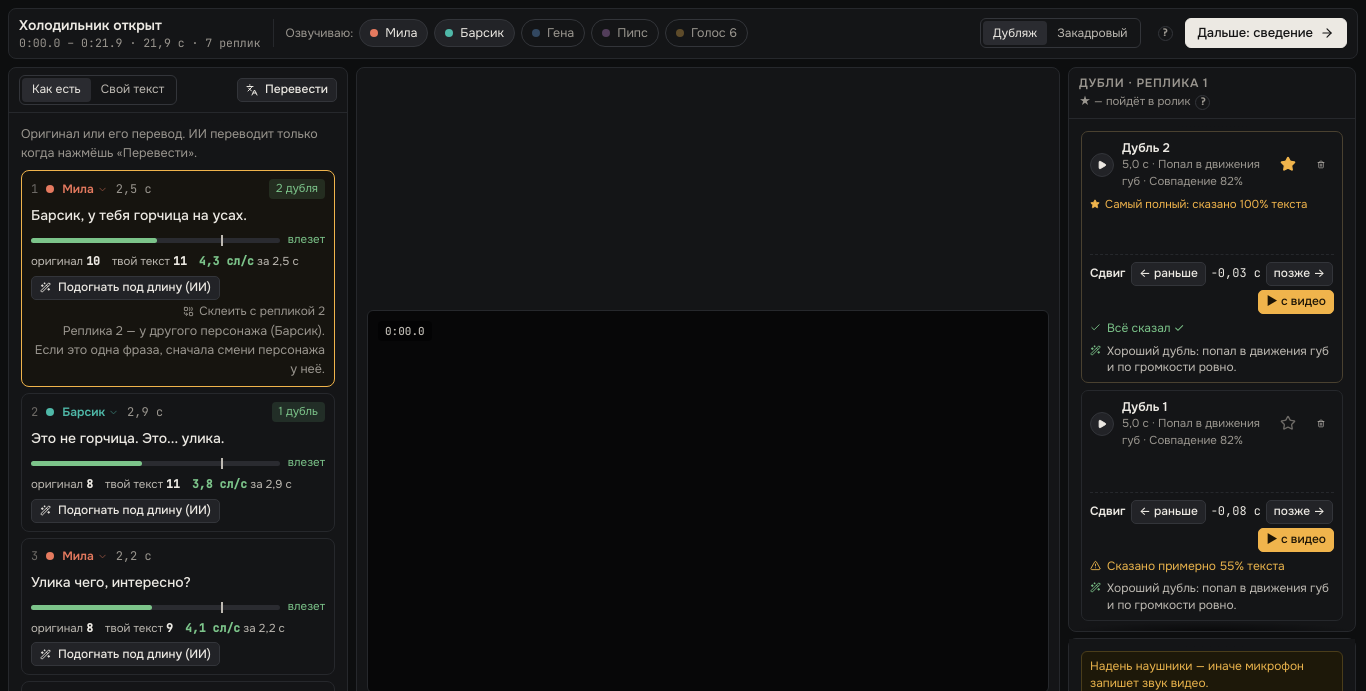
меню «Кто это говорит?» › клавиатура: фокус на текущем, ↓/↑ по пунктам, Enter выбирает; ↑↓ не листают реплики
The width and height of the screenshot is (1366, 691).
Click the button with aria-label "Персонаж реплики 1" at (85, 190), box [58, 180, 112, 199]
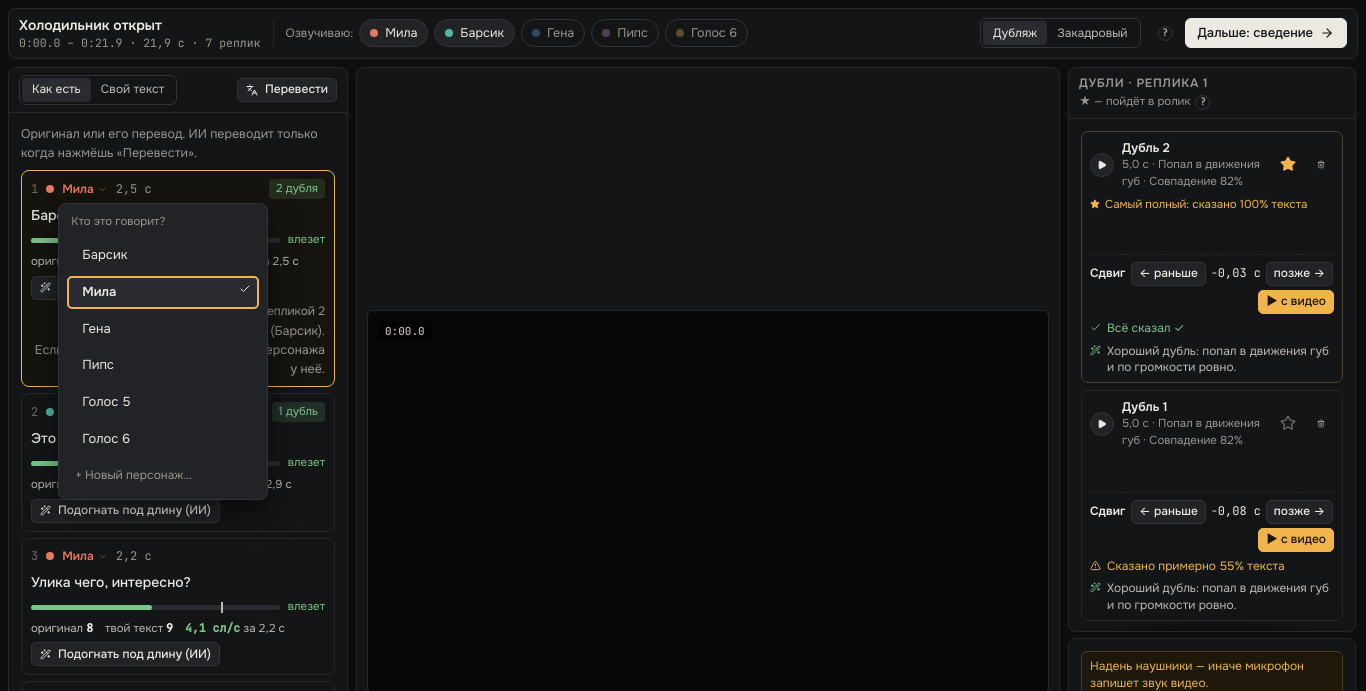
Press Arrowdown
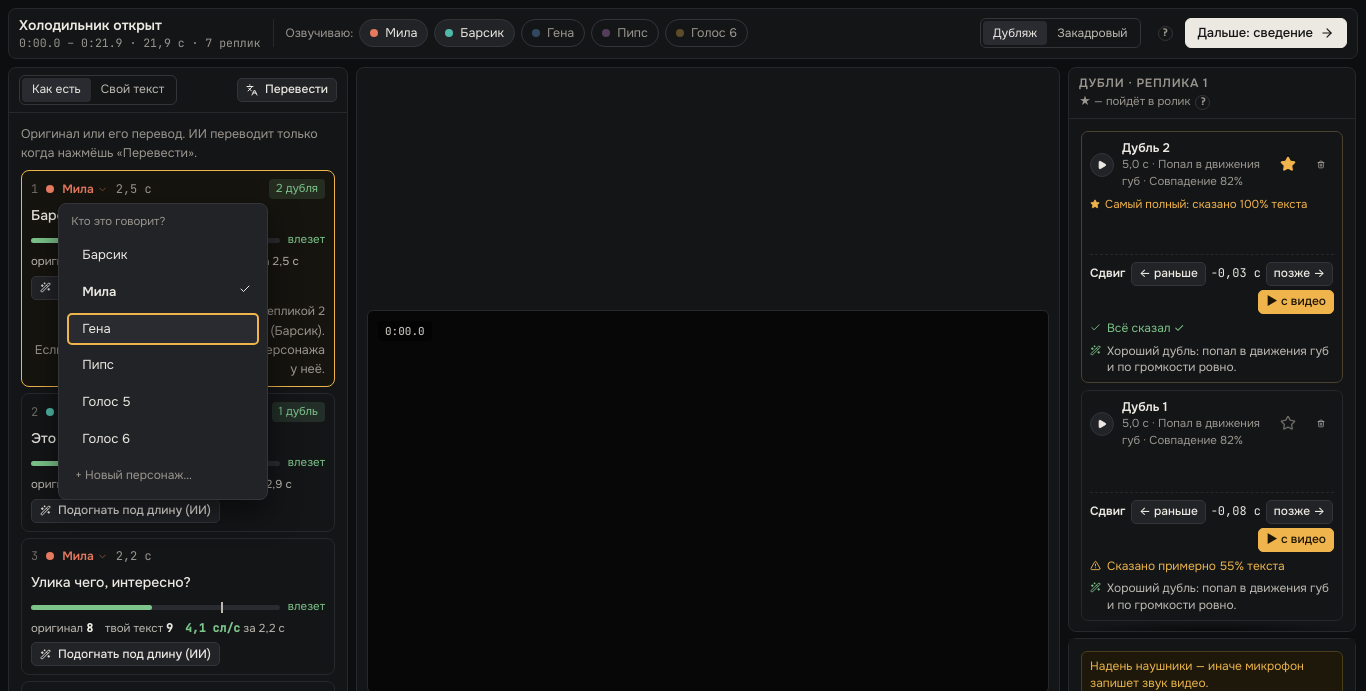
Press Arrowup
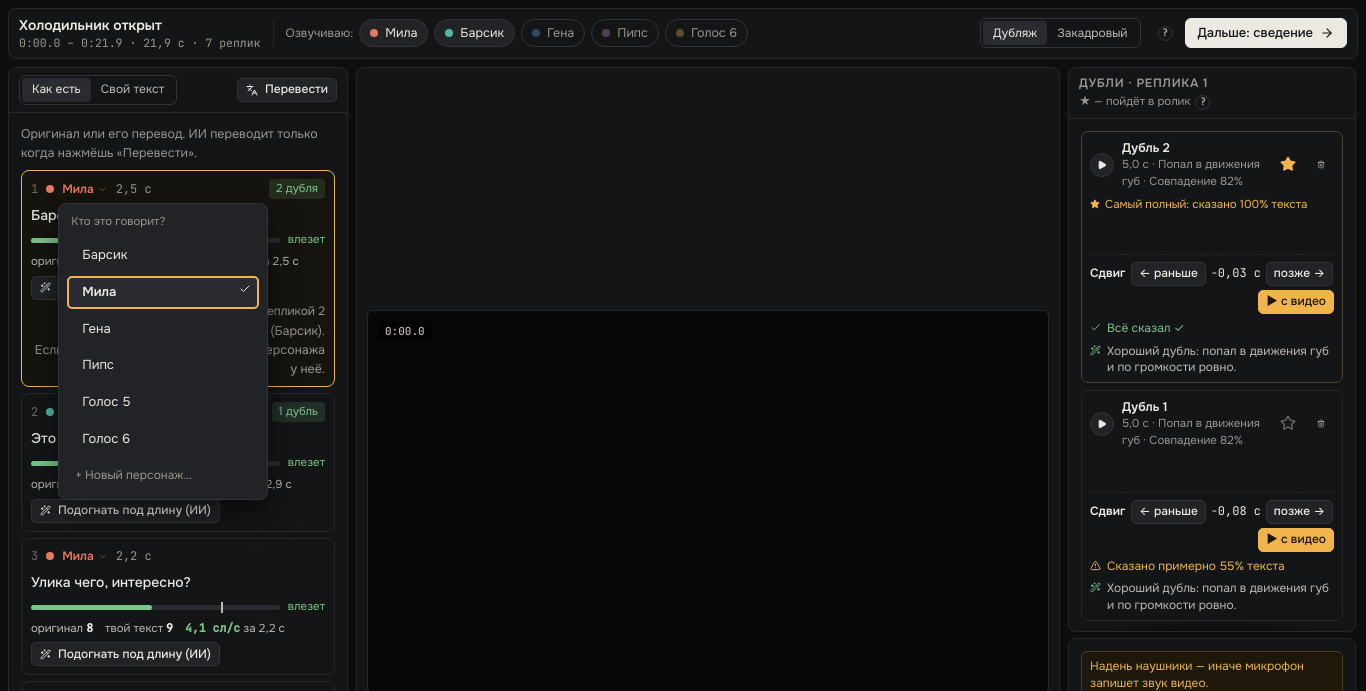
Note: к соседнему персонажу (не текущему) и Enter
Press Arrowdown
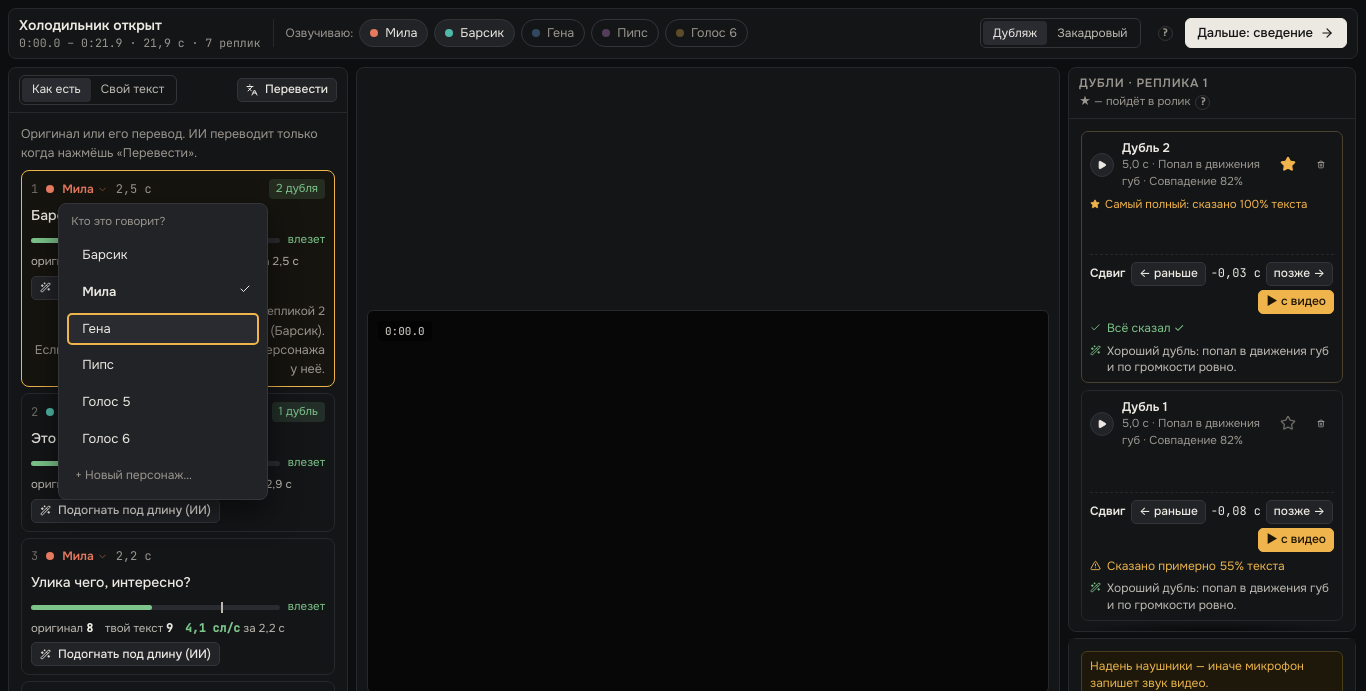
Press Enter
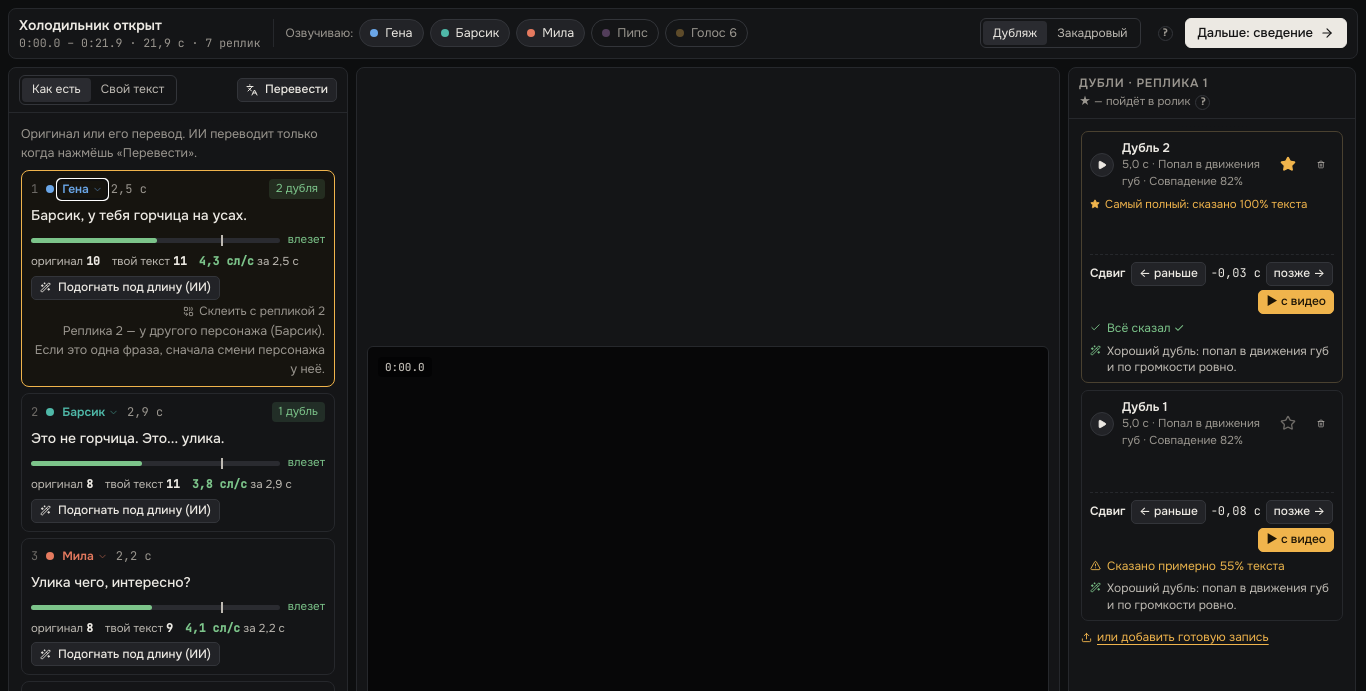
Now the menu is gone
